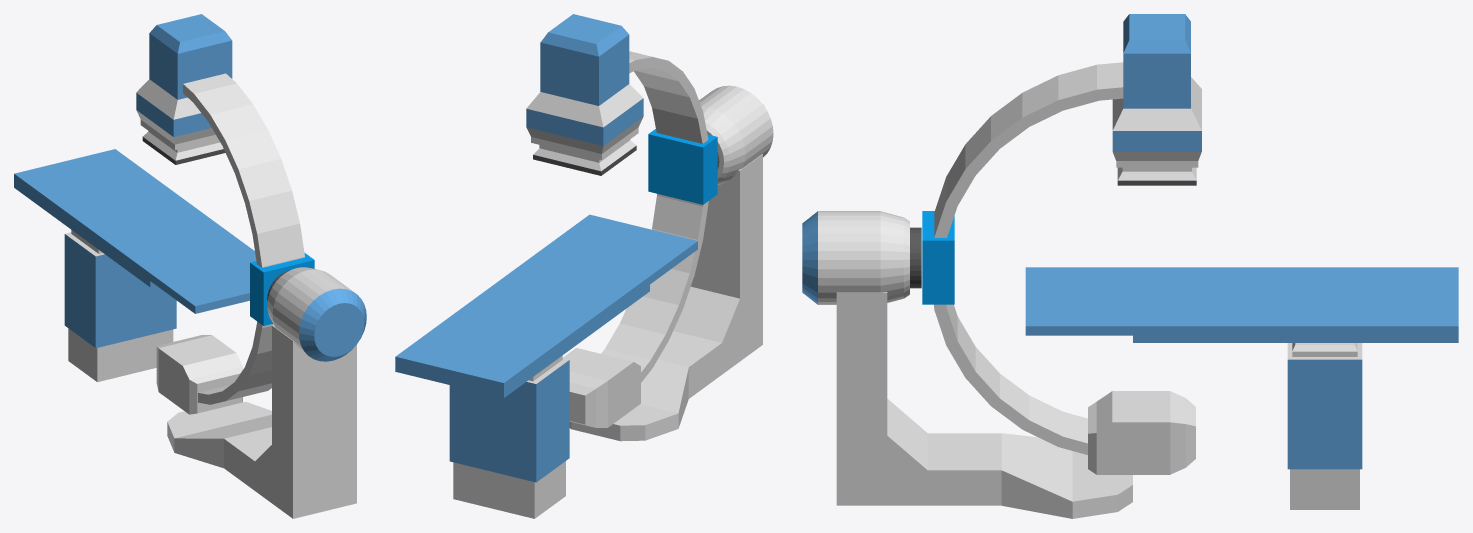
The model's file is CATHLAB_03.gltf.
The picture shows the model from 3 angles, left to right: view 1: azimuth 30°, elevation 25°; view 2: azimuth 150°, elevation 25°; view 3: azimuth 270°, elevation 25°; orthographic projection. The views are drawn at different scales.
Parts seen in each view (by area): view 1: bedpole, Atop.001, overhead_base.001, Cylinder.002; view 2: bedpole, Atop.001, overhead_base.001, Cylinder.002; view 3: bedpole, Atop.001, overhead_base.001, Cylinder.002.
Part boxes in pixels (x1=…): bedpole: x1=14, y1=149, x2=256, y2=382; Atop.001: x1=136, y1=14, x2=314, y2=414; overhead_base.001: x1=167, y1=325, x2=356, y2=518; Cylinder.002: x1=267, y1=267, x2=366, y2=361; bedpole: x1=395, y1=214, x2=697, y2=518; Atop.001: x1=526, y1=14, x2=717, y2=427; overhead_base.001: x1=569, y1=154, x2=762, y2=441; Cylinder.002: x1=699, y1=85, x2=773, y2=184; bedpole: x1=1025, y1=267, x2=1458, y2=509; Atop.001: x1=922, y1=14, x2=1201, y2=474; overhead_base.001: x1=836, y1=292, x2=1132, y2=518; Cylinder.002: x1=802, y1=211, x2=921, y2=304.
Size of the model in its own units: 2.42 by 8.61 by 11.1.
